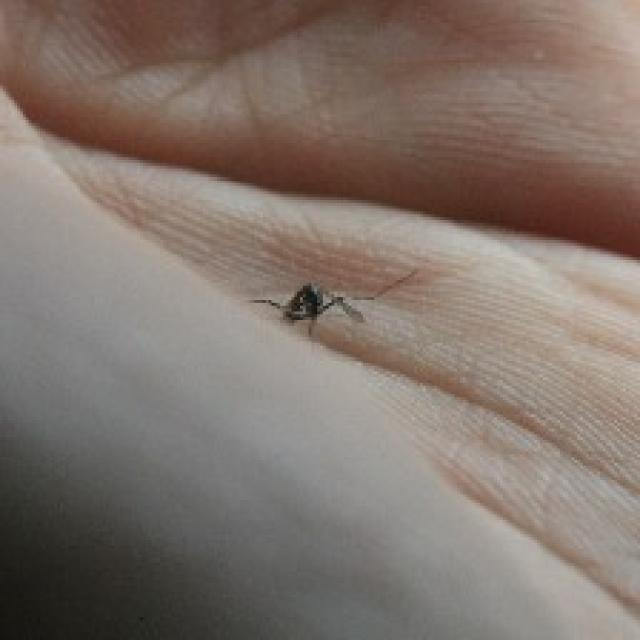aedes: (212, 236, 472, 394)
